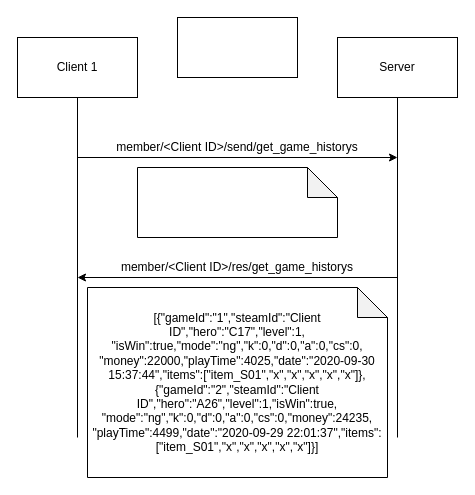
This 475x495 diagram has some shape labels left out. The centre of each missing label's shape, as x and y in pixels:
get_game_historys: [237,47]
{"id":"damody"}: [237,202]
